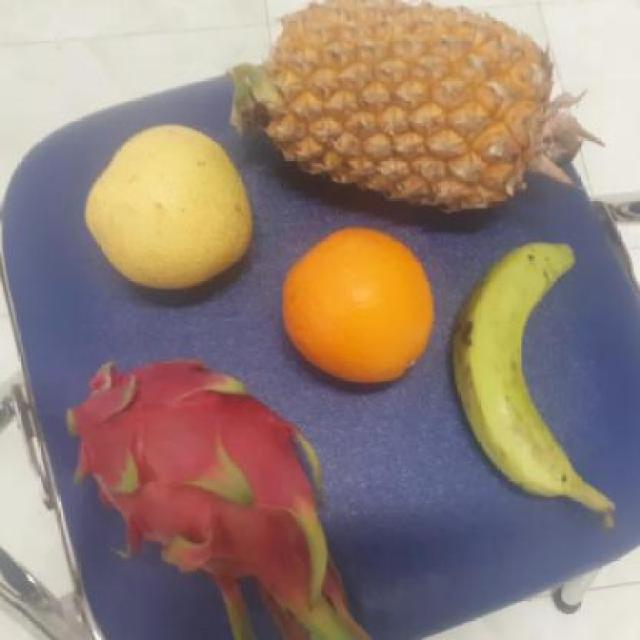banana: (452, 241, 592, 504)
dragon fruit: (52, 360, 332, 572)
guava: (79, 129, 253, 291), (275, 228, 433, 384)
pear: (275, 230, 436, 384)
pineapple: (252, 0, 552, 220)
